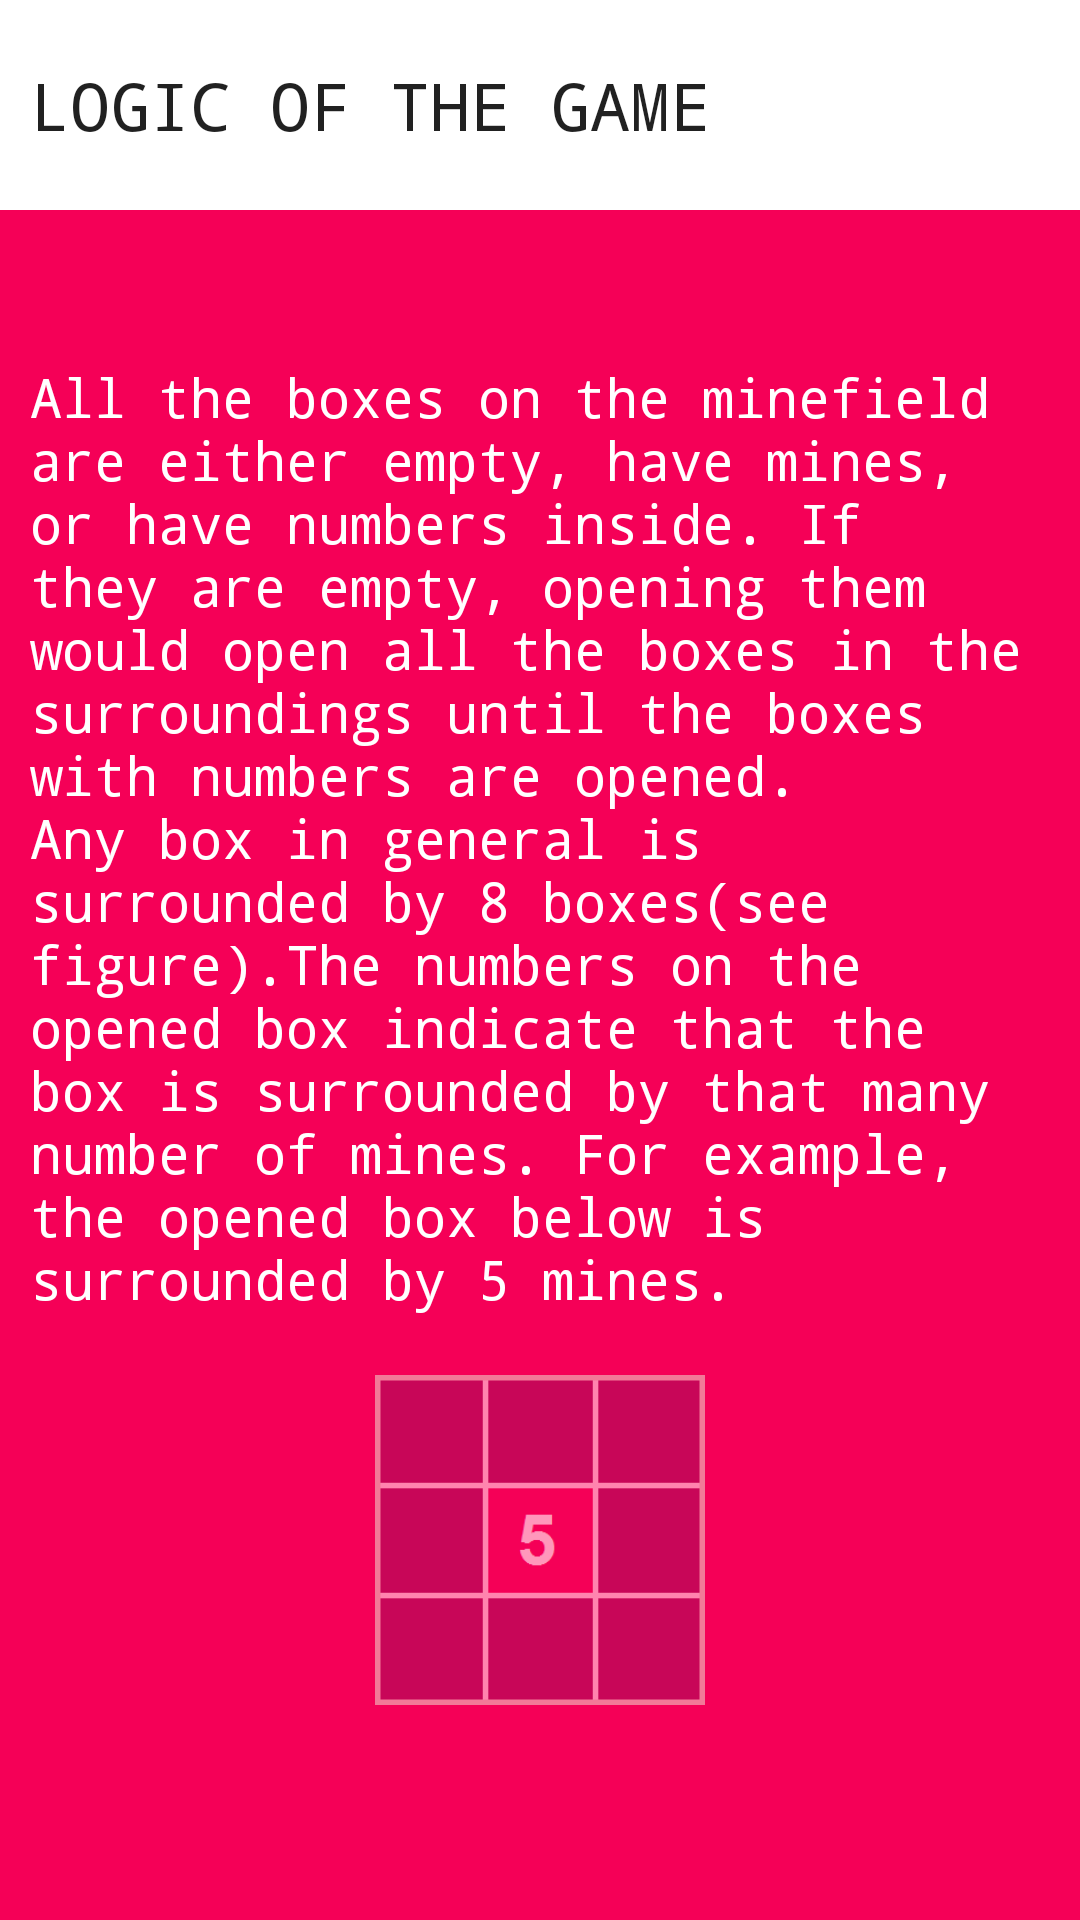

Screen size 1080 x 1920. Icon name, then its center in pixels as [x,y]:
examplehtp: [540,1540]
